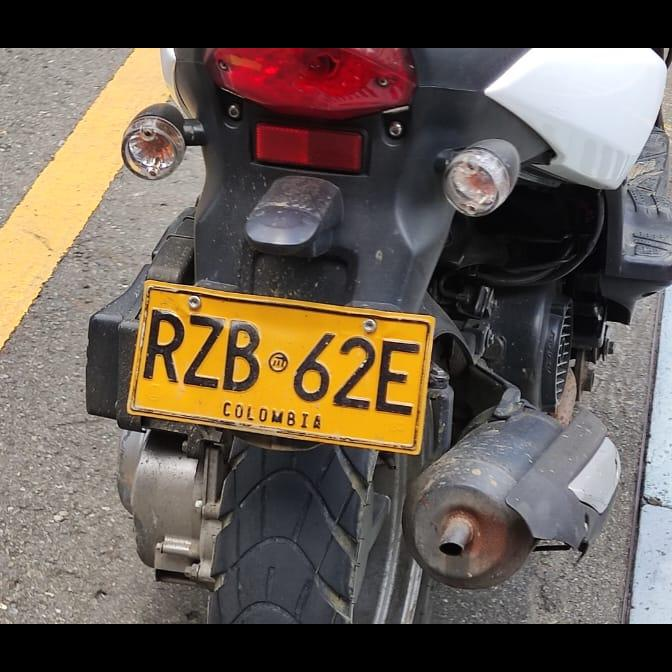plates: (126, 283, 434, 454)
